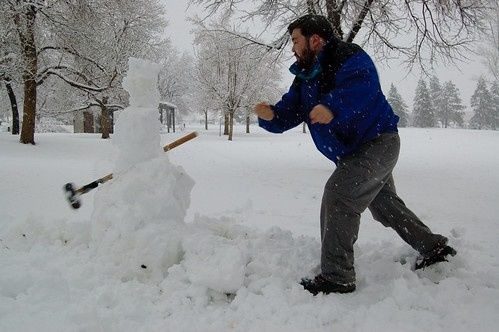hammer: (60, 167, 110, 209)
